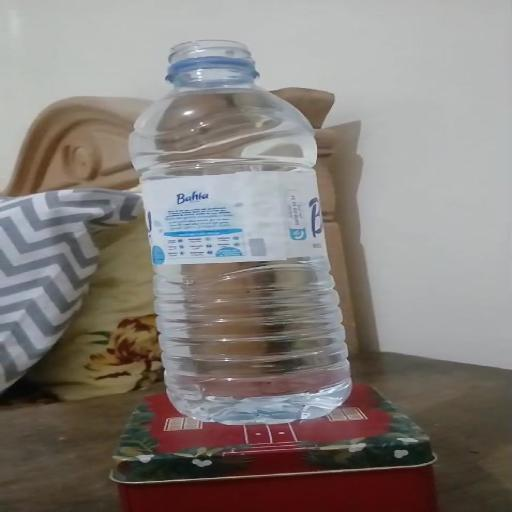bouteille non conformite: (111, 41, 374, 424), (152, 31, 302, 100)
